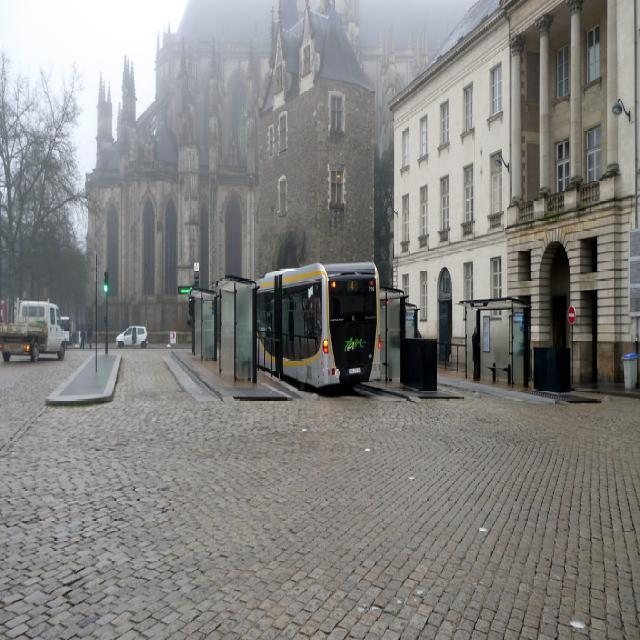Buses: (256, 255, 383, 398)
Passenger Car: (115, 326, 149, 350)
Pedestrians: (471, 325, 481, 381)
Pickup Trucks: (1, 297, 66, 360)
